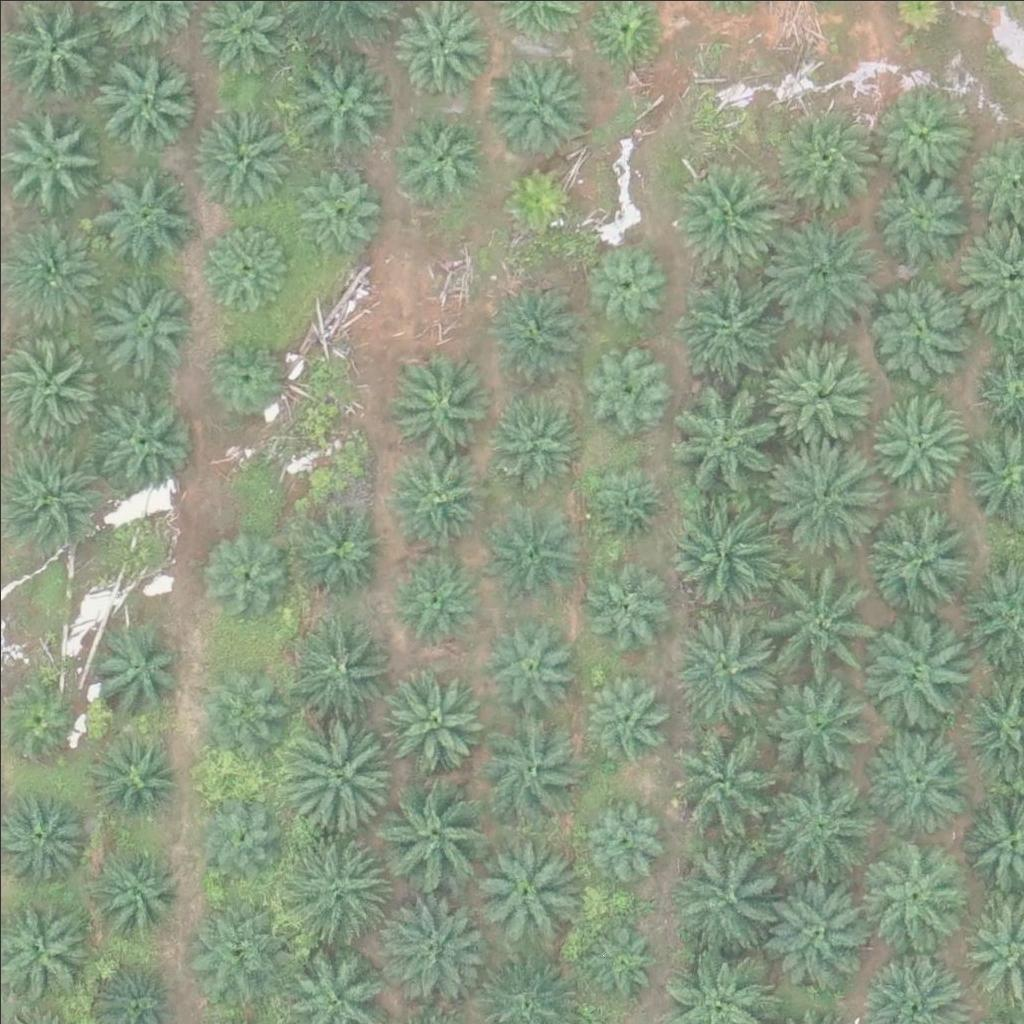Kelapa_Sawit: (762, 432, 875, 546), (286, 47, 399, 160), (664, 611, 777, 724), (668, 492, 781, 605), (675, 376, 788, 489), (868, 607, 981, 720), (284, 828, 397, 941), (763, 874, 876, 987), (677, 260, 789, 374), (673, 156, 785, 270), (771, 99, 883, 213), (368, 661, 480, 775), (282, 601, 394, 714), (763, 211, 875, 324), (763, 338, 875, 451), (756, 563, 868, 676), (871, 502, 983, 615), (278, 715, 390, 828), (377, 783, 489, 896), (381, 892, 493, 1005), (467, 832, 579, 945), (478, 711, 590, 824), (672, 840, 784, 953), (667, 730, 779, 843), (765, 675, 877, 788), (766, 766, 878, 879), (859, 719, 971, 832), (91, 166, 191, 267), (385, 442, 485, 543), (389, 350, 489, 451), (388, 110, 488, 211), (484, 394, 584, 495), (483, 285, 583, 386), (490, 48, 590, 149), (869, 388, 969, 489), (869, 276, 969, 377), (867, 167, 967, 268), (84, 615, 184, 716), (190, 895, 290, 996), (863, 836, 963, 937), (1, 221, 101, 321), (89, 389, 189, 489), (99, 265, 199, 365), (98, 52, 198, 152), (189, 108, 289, 208), (477, 621, 577, 721), (482, 492, 582, 592), (867, 82, 967, 182), (202, 228, 290, 317), (492, 157, 580, 245), (203, 526, 291, 614), (296, 166, 384, 254), (391, 559, 479, 647), (583, 241, 671, 329), (579, 349, 667, 437), (90, 727, 178, 815), (201, 331, 288, 419), (296, 503, 383, 591), (582, 457, 669, 545), (582, 562, 669, 650), (96, 847, 183, 935), (195, 792, 282, 880), (199, 676, 286, 764), (579, 674, 666, 762), (579, 798, 666, 886), (582, 920, 657, 996)
